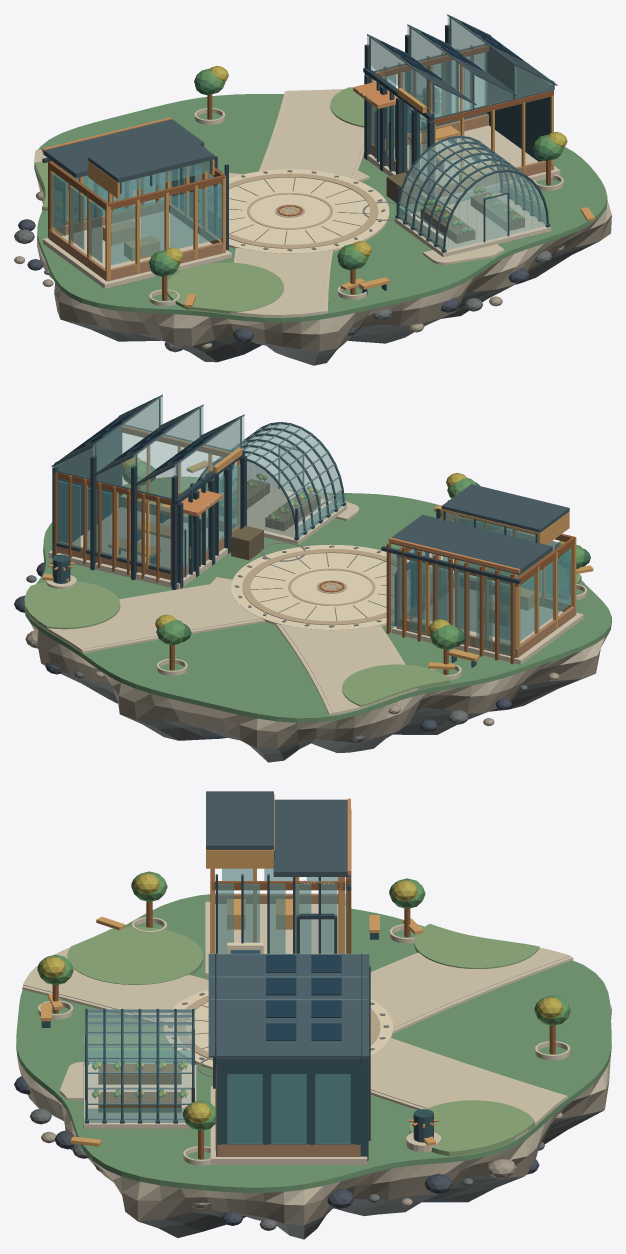
File: industry-youth-c.glb
The picture shows the model from 3 angles, top to bottom: view 1: azimuth 30°, elevation 25°; view 2: azimuth 150°, elevation 25°; view 3: azimuth 270°, elevation 25°; orthographic projection. The views are drawn at different scales.
Parts seen in each view (by area): view 1: 00_TerrainAndPlaza_grass.001, 00_TerrainAndPlaza_path.001, 03_Exhibition_glass, 00_TerrainAndPlaza_stone_bright.001, 02_Greenhouse_glass_light.001, 01_Workshop_glass_light.001, 00_TerrainAndPlaza_cliff_light.001, 01_Workshop_steel.001, 00_TerrainAndPlaza_stone_cream.001, 03_Exhibition_roof, 04_GardensAndFurniture_grass_light.001, 03_Exhibition_woodlight.001 (+30 smaller); view 2: 00_TerrainAndPlaza_grass.001, 00_TerrainAndPlaza_path.001, 03_Exhibition_glass, 00_TerrainAndPlaza_stone_bright.001, 01_Workshop_glass_light.001, 00_TerrainAndPlaza_cliff_light.001, 03_Exhibition_roof, 00_TerrainAndPlaza_stone_cream.001, 02_Greenhouse_glass_light.001, 01_Workshop_steel.001, 01_Workshop_glass.001, 01_Workshop_v3_metal (+30 smaller); view 3: 00_TerrainAndPlaza_grass.001, 00_TerrainAndPlaza_path.001, 01_Workshop_steel.001, 01_Workshop_roof.001, 04_GardensAndFurniture_grass_light.001, 03_Exhibition_roof, 00_TerrainAndPlaza_stone_cream.001, 00_TerrainAndPlaza_cliff_light.001, 01_Workshop_glass.001, 02_Greenhouse_glass_light.001, 03_Exhibition_glass, 00_TerrainAndPlaza_cliff_mid.001 (+26 smaller).
Boxes of the visible parts, left/top/right/bottom form: 00_TerrainAndPlaza_grass.001: left=34, top=94, right=607, bottom=322; 00_TerrainAndPlaza_path.001: left=34, top=89, right=364, bottom=315; 03_Exhibition_glass: left=51, top=161, right=224, bottom=264; 00_TerrainAndPlaza_stone_bright.001: left=198, top=169, right=389, bottom=253; 02_Greenhouse_glass_light.001: left=400, top=137, right=546, bottom=249; 01_Workshop_glass_light.001: left=367, top=15, right=553, bottom=166; 00_TerrainAndPlaza_cliff_light.001: left=14, top=191, right=611, bottom=351; 01_Workshop_steel.001: left=369, top=16, right=554, bottom=182; 00_TerrainAndPlaza_stone_cream.001: left=34, top=91, right=611, bottom=334; 03_Exhibition_roof: left=43, top=119, right=214, bottom=182; 04_GardensAndFurniture_grass_light.001: left=167, top=87, right=425, bottom=313; 03_Exhibition_woodlight.001: left=49, top=159, right=225, bottom=281; 00_TerrainAndPlaza_grass.001: left=24, top=476, right=611, bottom=722; 00_TerrainAndPlaza_path.001: left=41, top=528, right=556, bottom=713; 03_Exhibition_glass: left=390, top=512, right=571, bottom=655; 00_TerrainAndPlaza_stone_bright.001: left=231, top=544, right=409, bottom=630; 01_Workshop_glass_light.001: left=56, top=395, right=244, bottom=575; 00_TerrainAndPlaza_cliff_light.001: left=25, top=549, right=600, bottom=748; 03_Exhibition_roof: left=389, top=484, right=569, bottom=574; 00_TerrainAndPlaza_stone_cream.001: left=30, top=527, right=610, bottom=731; 02_Greenhouse_glass_light.001: left=199, top=424, right=341, bottom=537; 01_Workshop_steel.001: left=52, top=396, right=244, bottom=577; 01_Workshop_glass.001: left=57, top=464, right=240, bottom=569; 01_Workshop_v3_metal: left=56, top=451, right=246, bottom=589; 00_TerrainAndPlaza_grass.001: left=16, top=894, right=611, bottom=1192; 00_TerrainAndPlaza_path.001: left=23, top=947, right=570, bottom=1136; 01_Workshop_steel.001: left=215, top=953, right=368, bottom=1161; 01_Workshop_roof.001: left=208, top=954, right=369, bottom=1057; 04_GardensAndFurniture_grass_light.001: left=67, top=927, right=534, bottom=1156; 03_Exhibition_roof: left=206, top=791, right=348, bottom=876; 00_TerrainAndPlaza_stone_cream.001: left=16, top=952, right=611, bottom=1205; 00_TerrainAndPlaza_cliff_light.001: left=19, top=1009, right=611, bottom=1225; 01_Workshop_glass.001: left=227, top=1074, right=350, bottom=1143; 02_Greenhouse_glass_light.001: left=88, top=1012, right=191, bottom=1102; 03_Exhibition_glass: left=218, top=868, right=347, bottom=953; 00_TerrainAndPlaza_cliff_mid.001: left=30, top=1108, right=603, bottom=1239.
Bounding box in the file's own units: 29.84 × 13.05 × 25.5.
